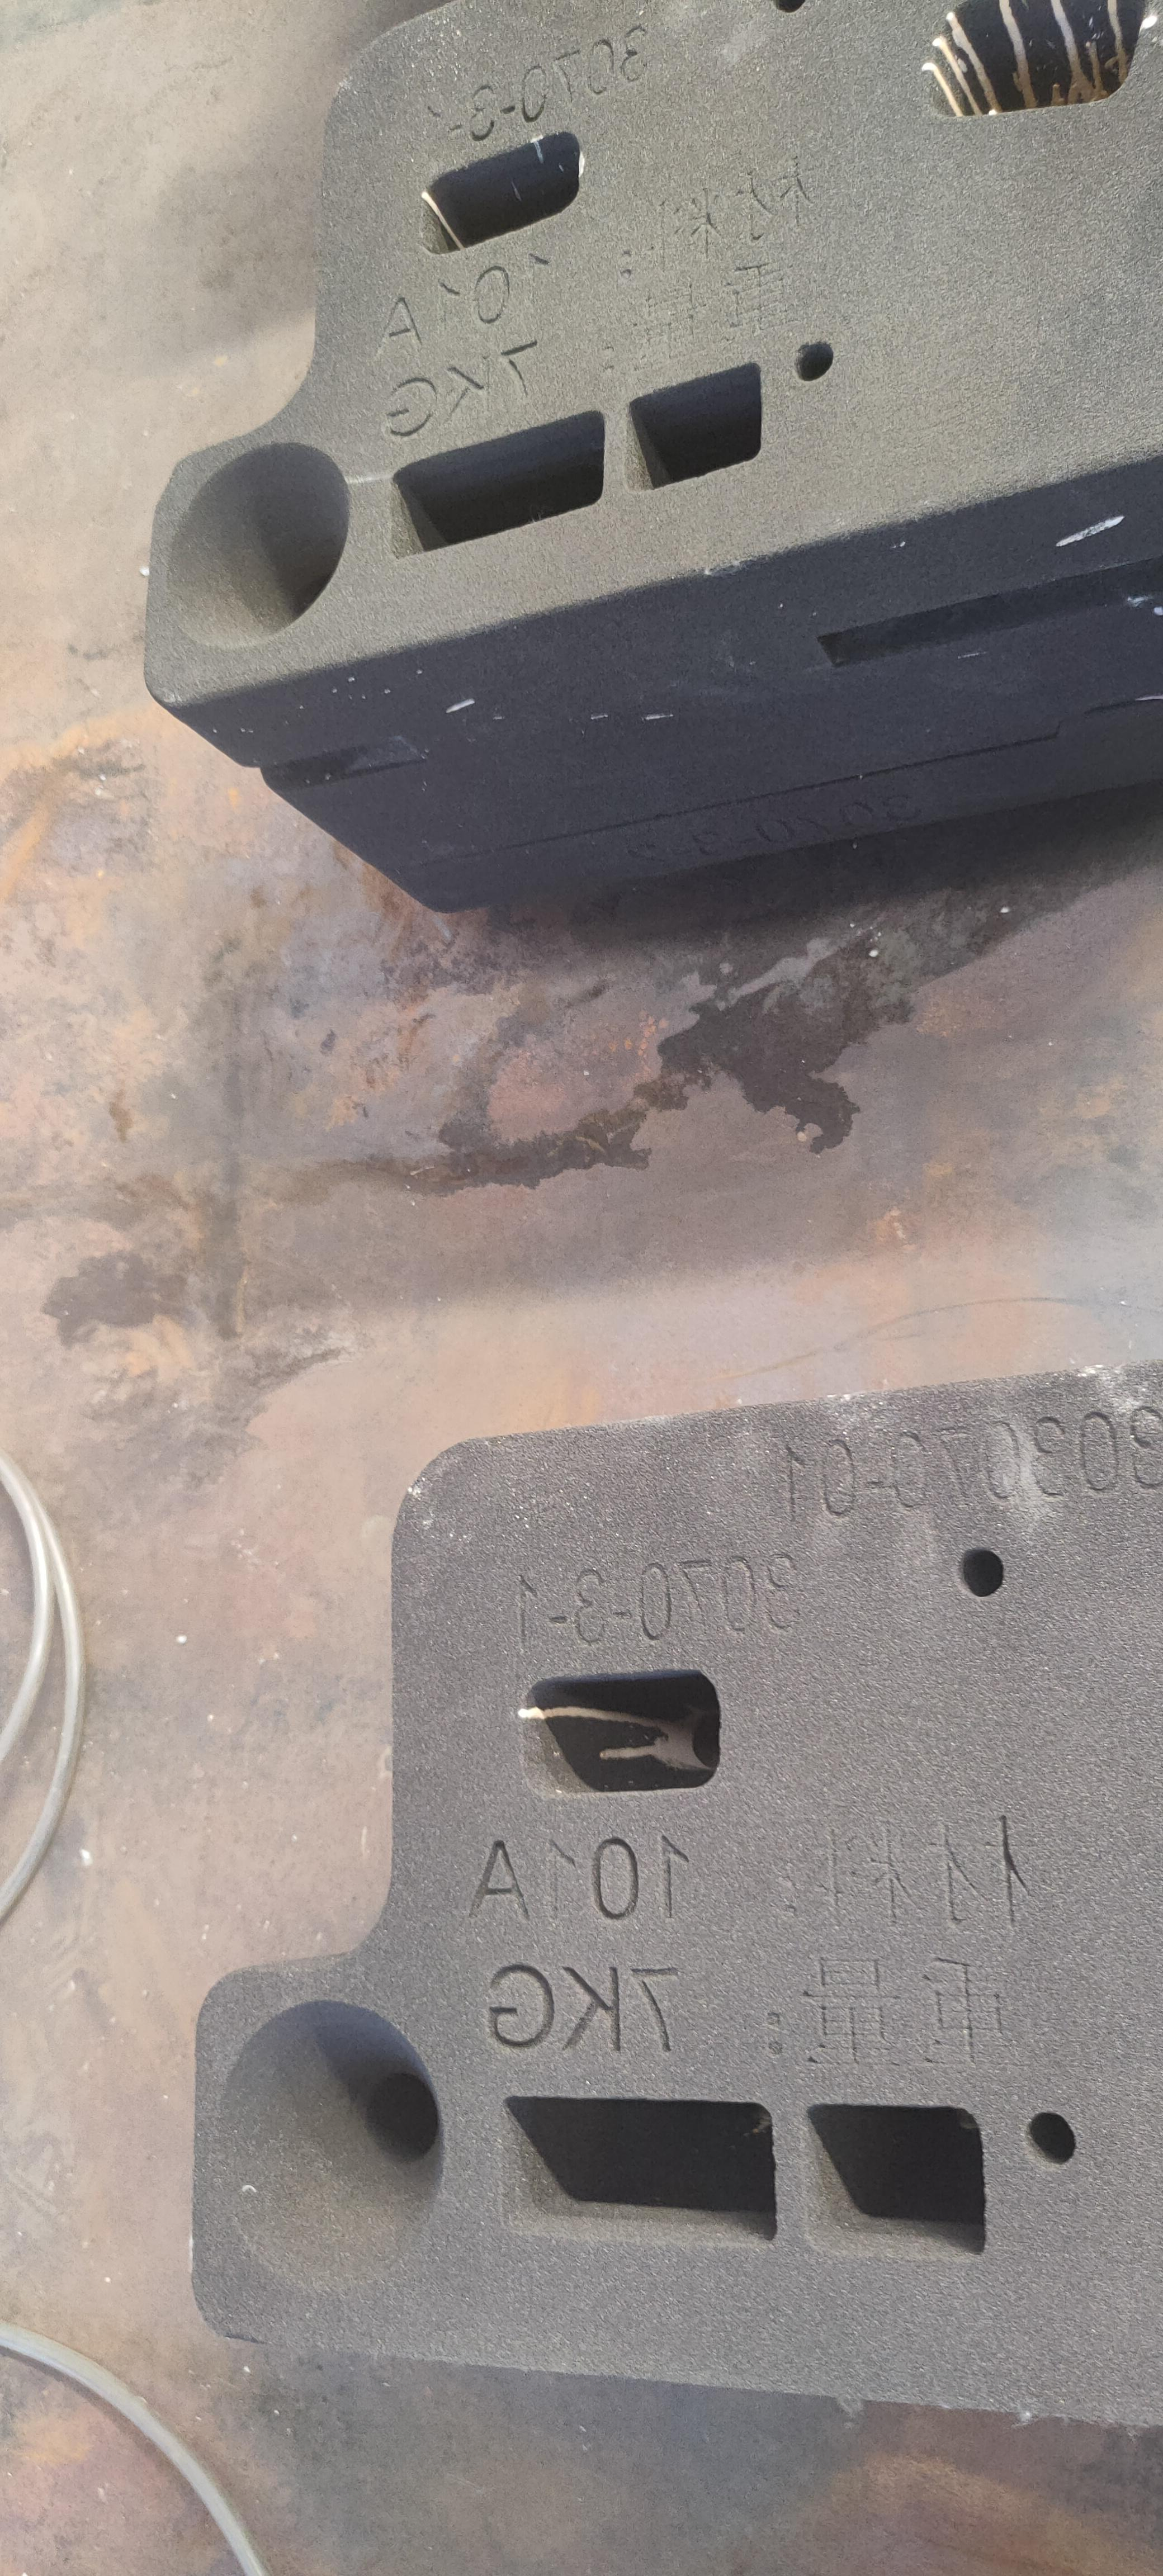pouring hole: (215, 1996, 447, 2288), (161, 440, 353, 649)
